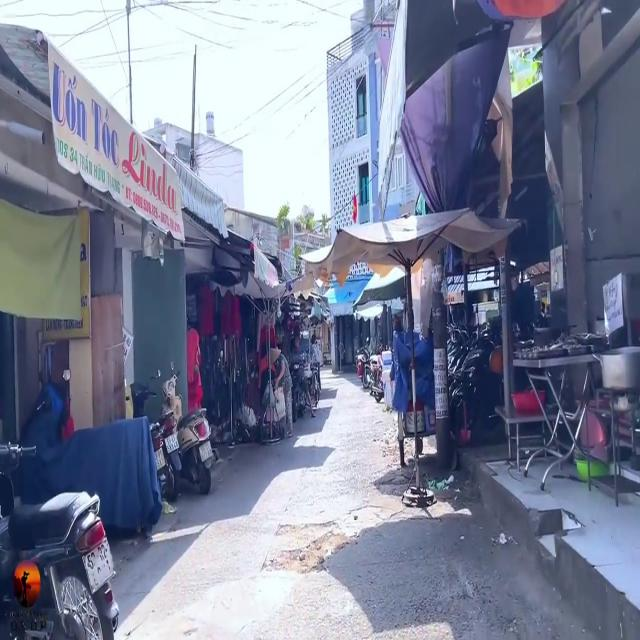bien_trang: (79, 536, 117, 591)
